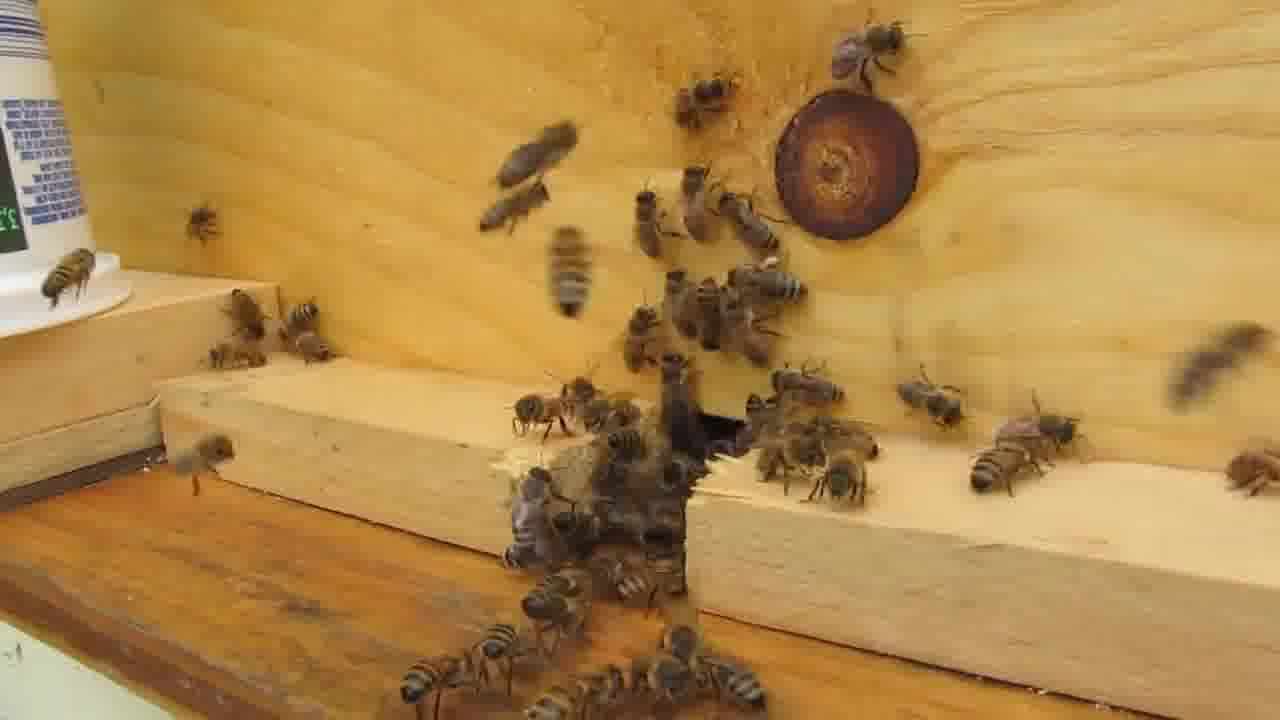pollen: (726, 255, 815, 311)
